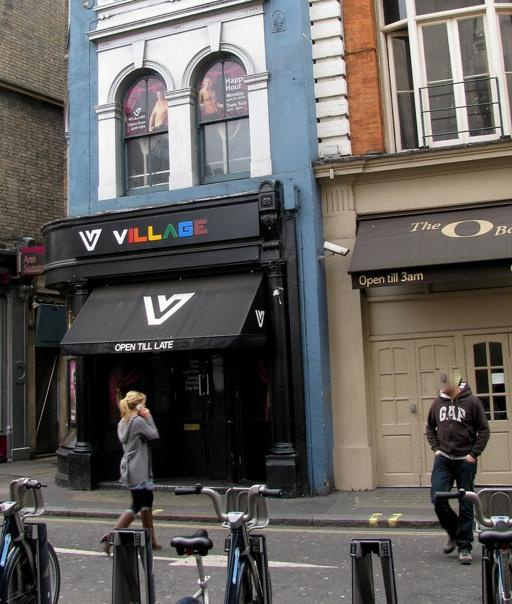non-vehicle: (168, 483, 281, 603), (430, 486, 511, 603), (0, 478, 61, 604)
